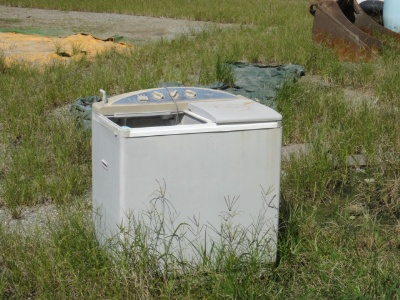washing_machine: (89, 84, 280, 284)
